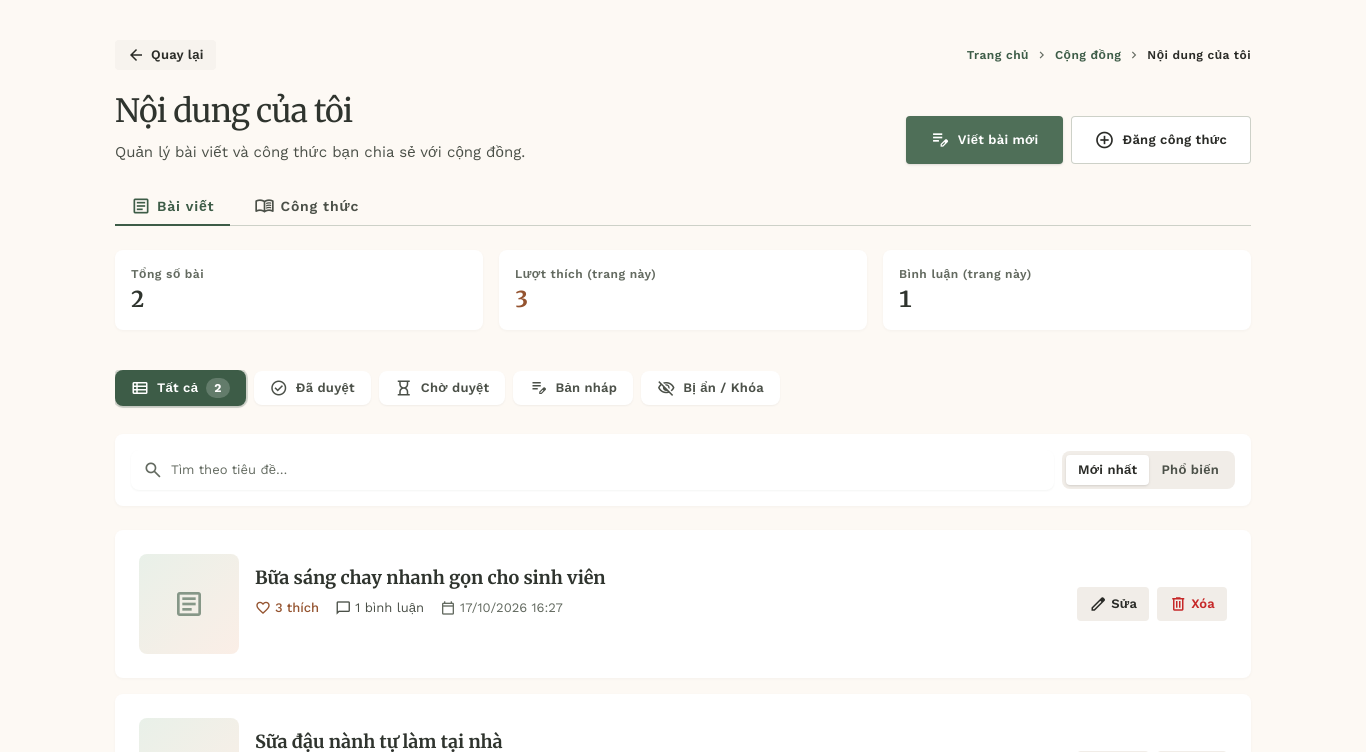
Test: MyContent (Nội dung của tôi) › Thành viên › xóa bài › dòng biến mất và hộp thoại đóng ngay, báo kết quả của server
Click the button named "Xóa bài \"Bữa sáng chay nhanh gọn cho sinh viên\"".
click(1192, 604)  # box x1=1157 y1=587 x2=1227 y2=621
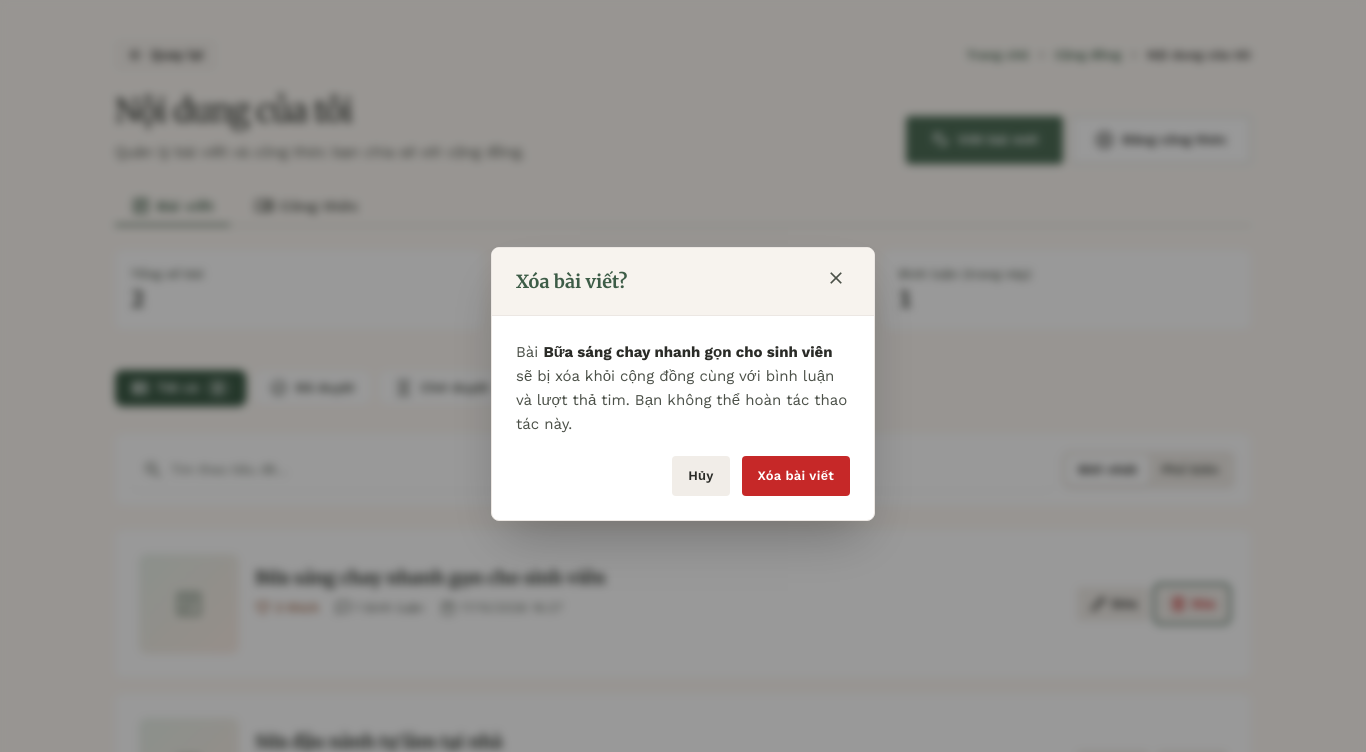
Click the button "Xóa bài viết".
click(796, 476)  # box x1=742 y1=456 x2=850 y2=496
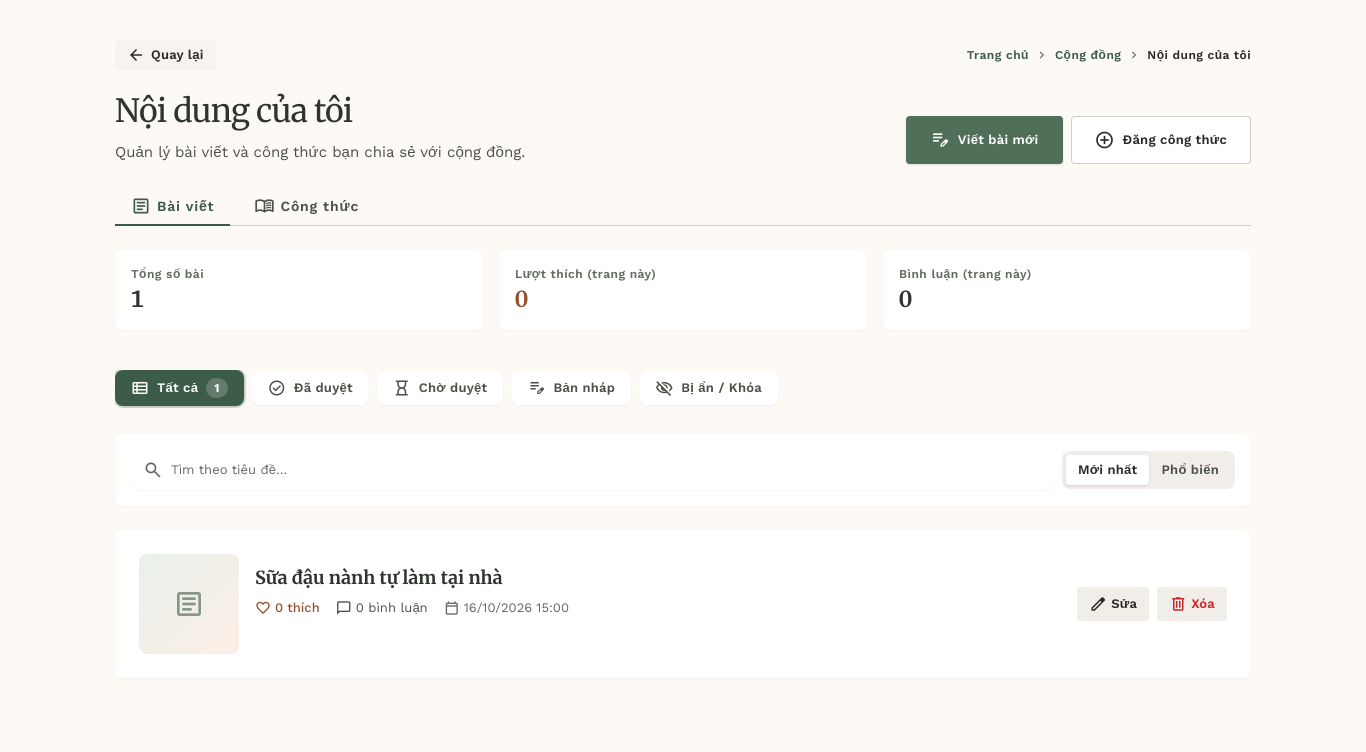
Expected: the link "Sữa đậu nành tự làm tại nhà" is shown, x1=255 y1=566 x2=503 y2=589
Expected: the link "Bữa sáng chay nhanh gọn cho sinh viên" is gone
